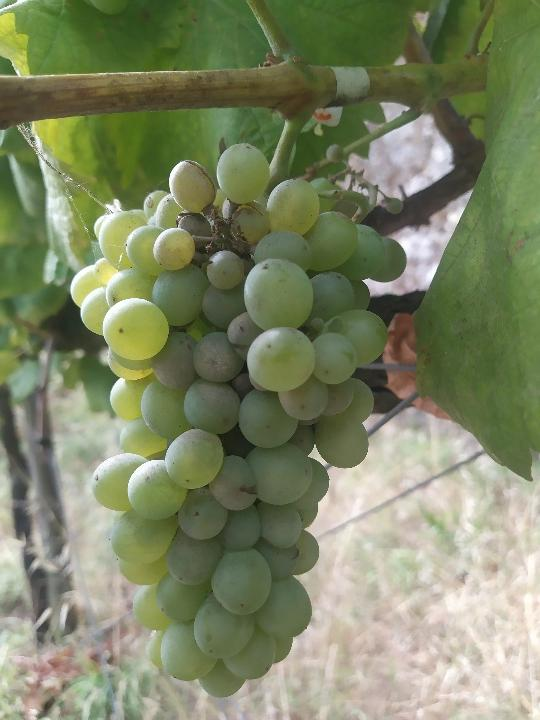grape: (60, 136, 409, 698)
